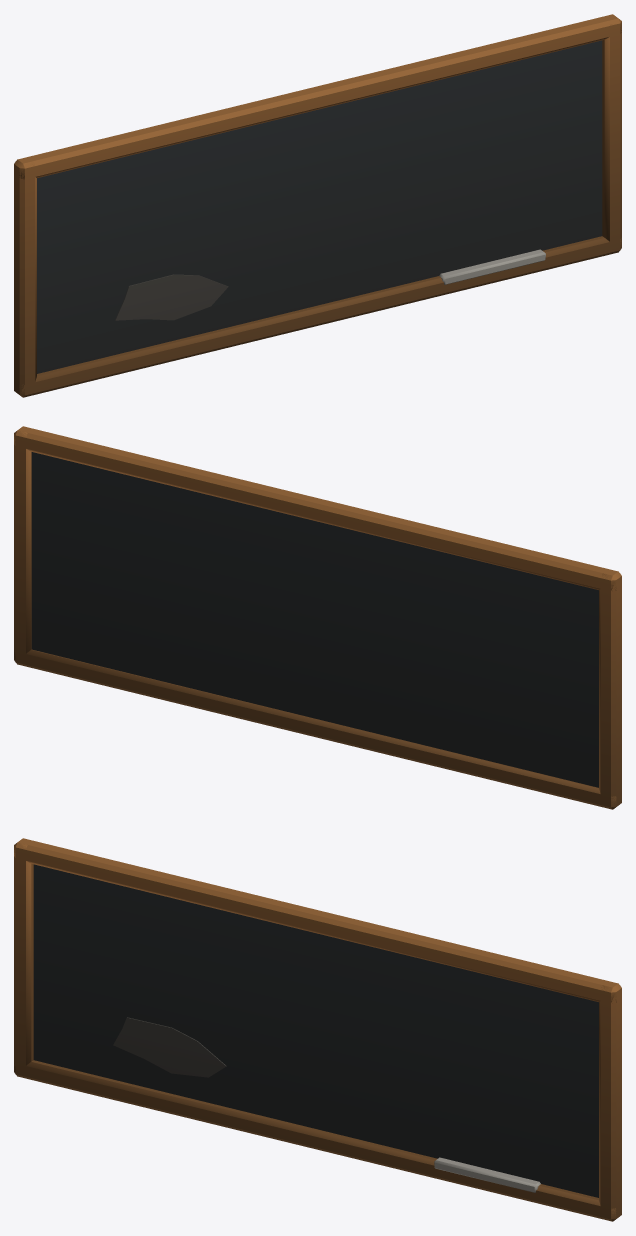
File: 66_ardoise_menu.fbx
3 views of the same model, one above another, from view 1: azimuth 30°, elevation 25°; view 2: azimuth 150°, elevation 25°; view 3: azimuth 330°, elevation 25° (orthographic).
Visible parts, largest first — view 1: Ardoise, Cadre; view 2: Ardoise, Cadre; view 3: Ardoise, Cadre.
Boxes of the visible parts, left/top/right/bottom form: Ardoise: left=37, top=40, right=602, bottom=373; Cadre: left=14, top=14, right=621, bottom=397; Ardoise: left=31, top=452, right=598, bottom=787; Cadre: left=14, top=426, right=621, bottom=809; Ardoise: left=33, top=864, right=598, bottom=1197; Cadre: left=14, top=838, right=621, bottom=1221.
Size of the model in its own units: 1.96 by 0.728 by 0.056.
1 material, 1 textured.
